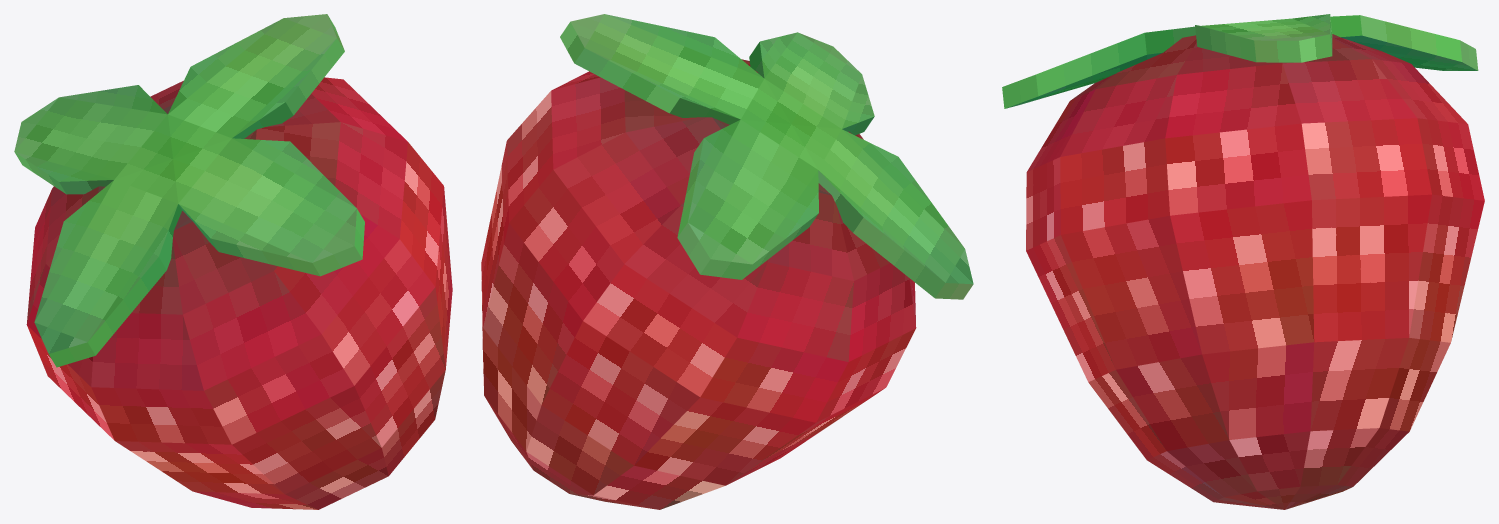
File: strawberry.glb
The picture shows the model from 3 angles, left to right: view 1: azimuth 30°, elevation 25°; view 2: azimuth 150°, elevation 25°; view 3: azimuth 270°, elevation 25°; orthographic projection. The views are drawn at different scales.
Visible parts, largest first — view 1: strawberryMesh; view 2: strawberryMesh; view 3: strawberryMesh.
Boxes of the visible parts, x1,y1,x2,y2 form: strawberryMesh: (14,14,452,509); strawberryMesh: (481,14,973,509); strawberryMesh: (1002,14,1484,509).
Size of the model in its own units: 0.767 by 0.8104 by 0.7367.
1 material, 1 textured.
